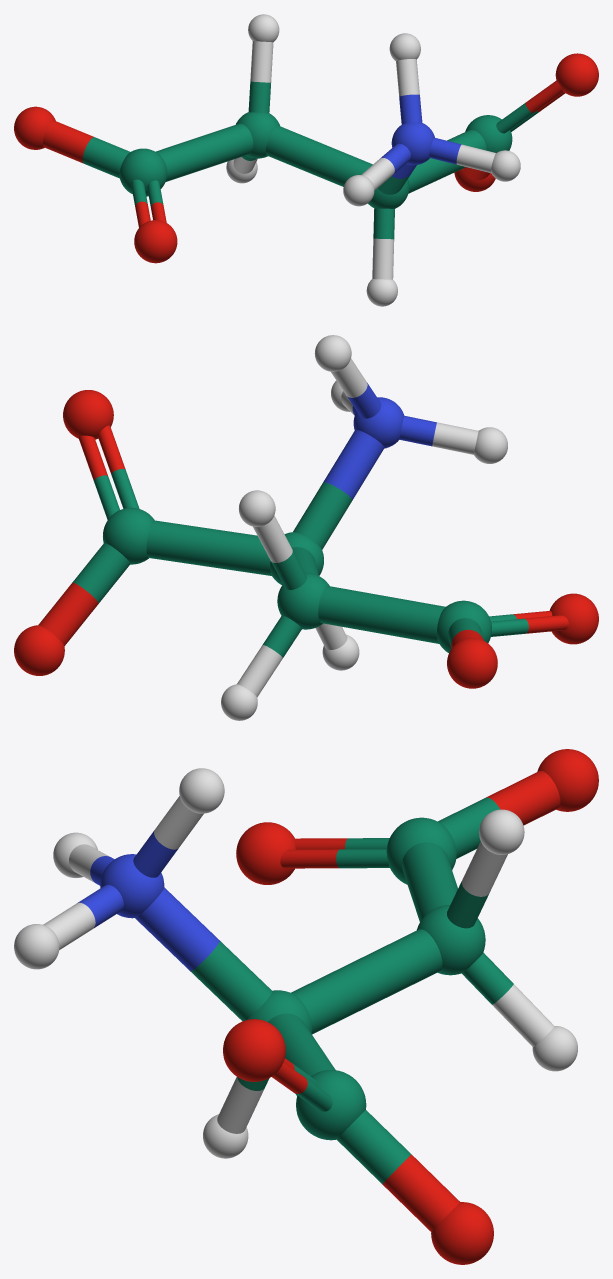
The model's file is ASP.PDB.glb.
3 views of the same model, one above another, from view 1: azimuth 30°, elevation 25°; view 2: azimuth 150°, elevation 25°; view 3: azimuth 270°, elevation 25° (orthographic). The views are drawn at different scales.
Bounding box in the file's own units: 5.74 × 3.17 × 4.24.
